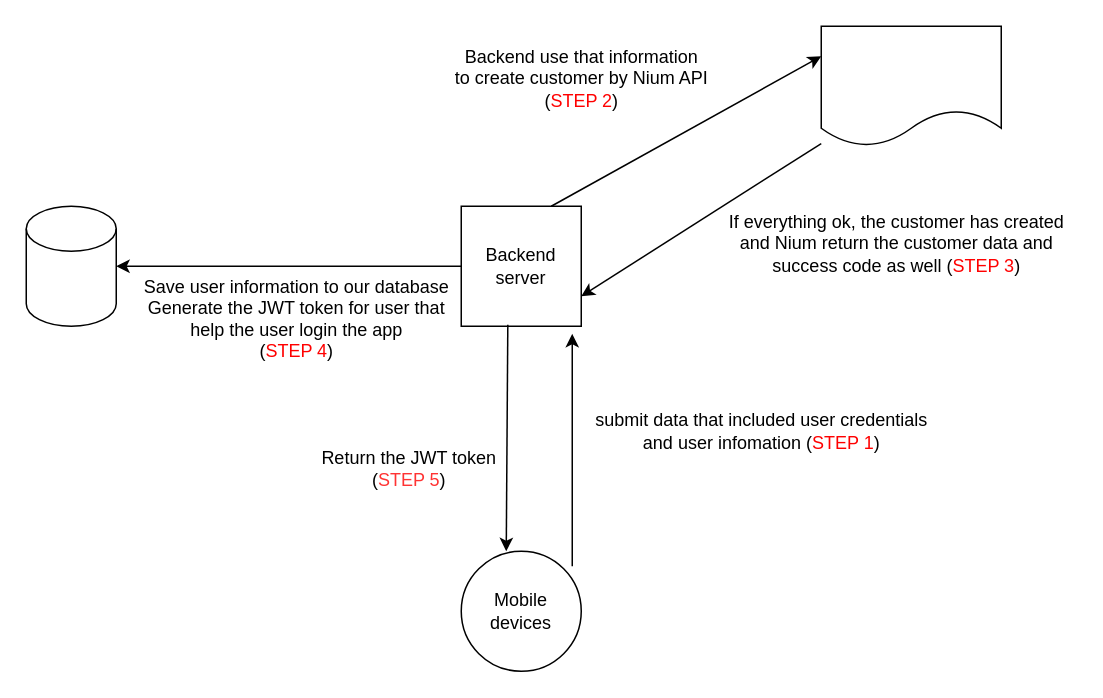
This 1103x698 diagram has some shape labels left out. The shapes that lost their labels are listed below. From the top down, each one's centre as x and y in pixels, then its label:
At pixel 910 85: "Nium APIs server".
At pixel 70 265: "our database".
